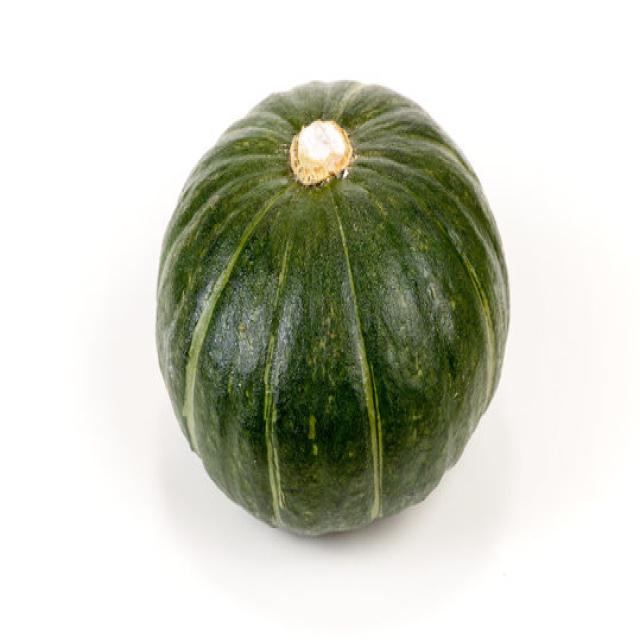Pumpkin: (157, 78, 514, 538)
